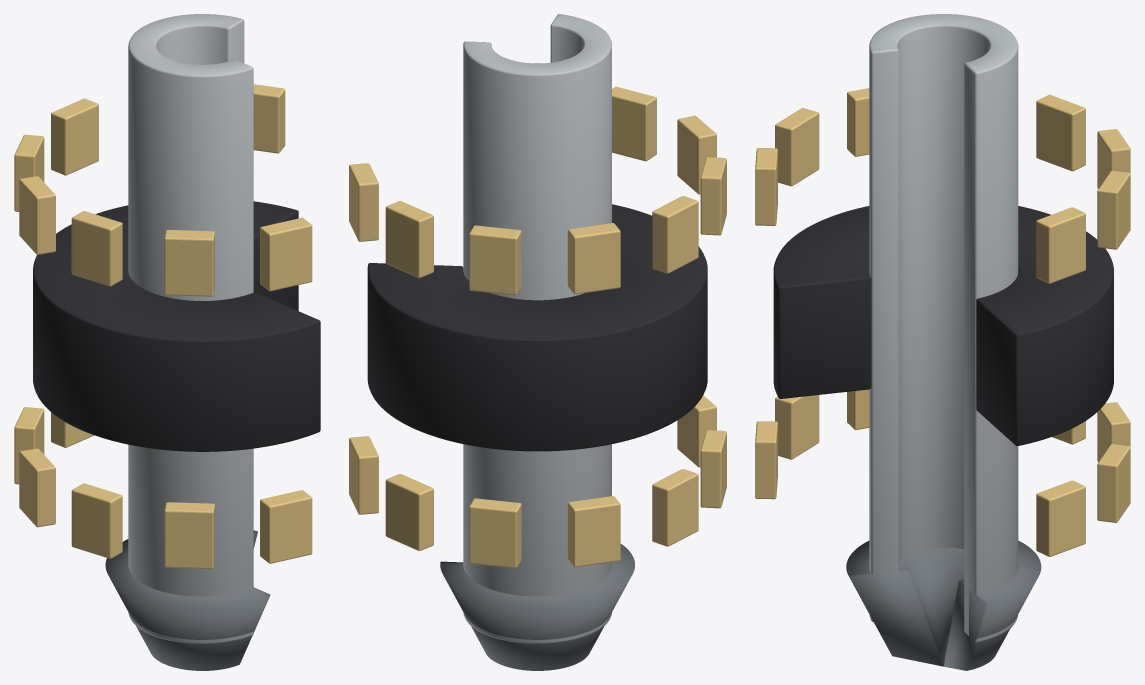
The model's file is bridge-plug.glb.
3 renders of one model, left to right at view 1: azimuth 30°, elevation 25°; view 2: azimuth 150°, elevation 25°; view 3: azimuth 270°, elevation 25°, orthographic.
Visible parts, largest first — view 1: Bridge plug mandrel, Rubber element, Plug nose, Upper bridge slip 7, Lower bridge slip 7, Lower bridge slip 5, Upper bridge slip 5, Upper bridge slip 6, Lower bridge slip 6, Upper bridge slip 2, Upper bridge slip 4, Lower bridge slip 4 (+4 smaller); view 2: Rubber element, Bridge plug mandrel, Plug nose, Lower bridge slip 3, Upper bridge slip 3, Lower bridge slip 2, Upper bridge slip 2, Lower bridge slip 1, Upper bridge slip 1, Upper bridge slip 4, Lower bridge slip 4, Upper bridge slip 7 (+6 smaller); view 3: Bridge plug mandrel, Rubber element, Plug nose, Upper bridge slip 0, Lower bridge slip 0, Upper bridge slip 3, Upper bridge slip 6, Lower bridge slip 6, Lower bridge slip 1, Upper bridge slip 1, Lower bridge slip 7, Upper bridge slip 7 (+4 smaller).
Part boxes in pixels (x1,y1,x2,y2): Bridge plug mandrel: [128, 14, 253, 643]; Rubber element: [33, 201, 320, 451]; Plug nose: [105, 530, 270, 670]; Upper bridge slip 7: [260, 217, 312, 291]; Lower bridge slip 7: [260, 490, 312, 563]; Lower bridge slip 5: [71, 483, 122, 558]; Upper bridge slip 5: [71, 211, 122, 286]; Upper bridge slip 6: [164, 229, 214, 296]; Lower bridge slip 6: [164, 502, 214, 568]; Upper bridge slip 2: [51, 98, 98, 175]; Upper bridge slip 4: [19, 176, 55, 254]; Lower bridge slip 4: [19, 448, 55, 527]; Rubber element: [367, 204, 707, 451]; Bridge plug mandrel: [463, 14, 611, 643]; Plug nose: [440, 544, 634, 670]; Lower bridge slip 3: [567, 496, 620, 567]; Upper bridge slip 3: [567, 223, 620, 294]; Lower bridge slip 2: [469, 498, 521, 568]; Upper bridge slip 2: [469, 225, 521, 295]; Lower bridge slip 1: [385, 474, 433, 550]; Upper bridge slip 1: [385, 201, 433, 278]; Upper bridge slip 4: [652, 196, 698, 273]; Lower bridge slip 4: [652, 469, 698, 546]; Upper bridge slip 7: [612, 86, 656, 161]; Bridge plug mandrel: [869, 14, 1018, 642]; Rubber element: [773, 206, 1113, 445]; Plug nose: [846, 540, 1041, 670]; Upper bridge slip 0: [1036, 207, 1085, 283]; Lower bridge slip 0: [1036, 480, 1085, 556]; Upper bridge slip 3: [1036, 94, 1085, 171]; Upper bridge slip 6: [775, 108, 819, 186]; Lower bridge slip 6: [775, 395, 819, 459]; Lower bridge slip 1: [1097, 444, 1130, 522]; Upper bridge slip 1: [1097, 170, 1130, 249]; Lower bridge slip 7: [755, 421, 777, 499]; Upper bridge slip 7: [755, 148, 777, 225].
Bounding box in the file's own units: 1.95 × 3.87 × 2.12.
